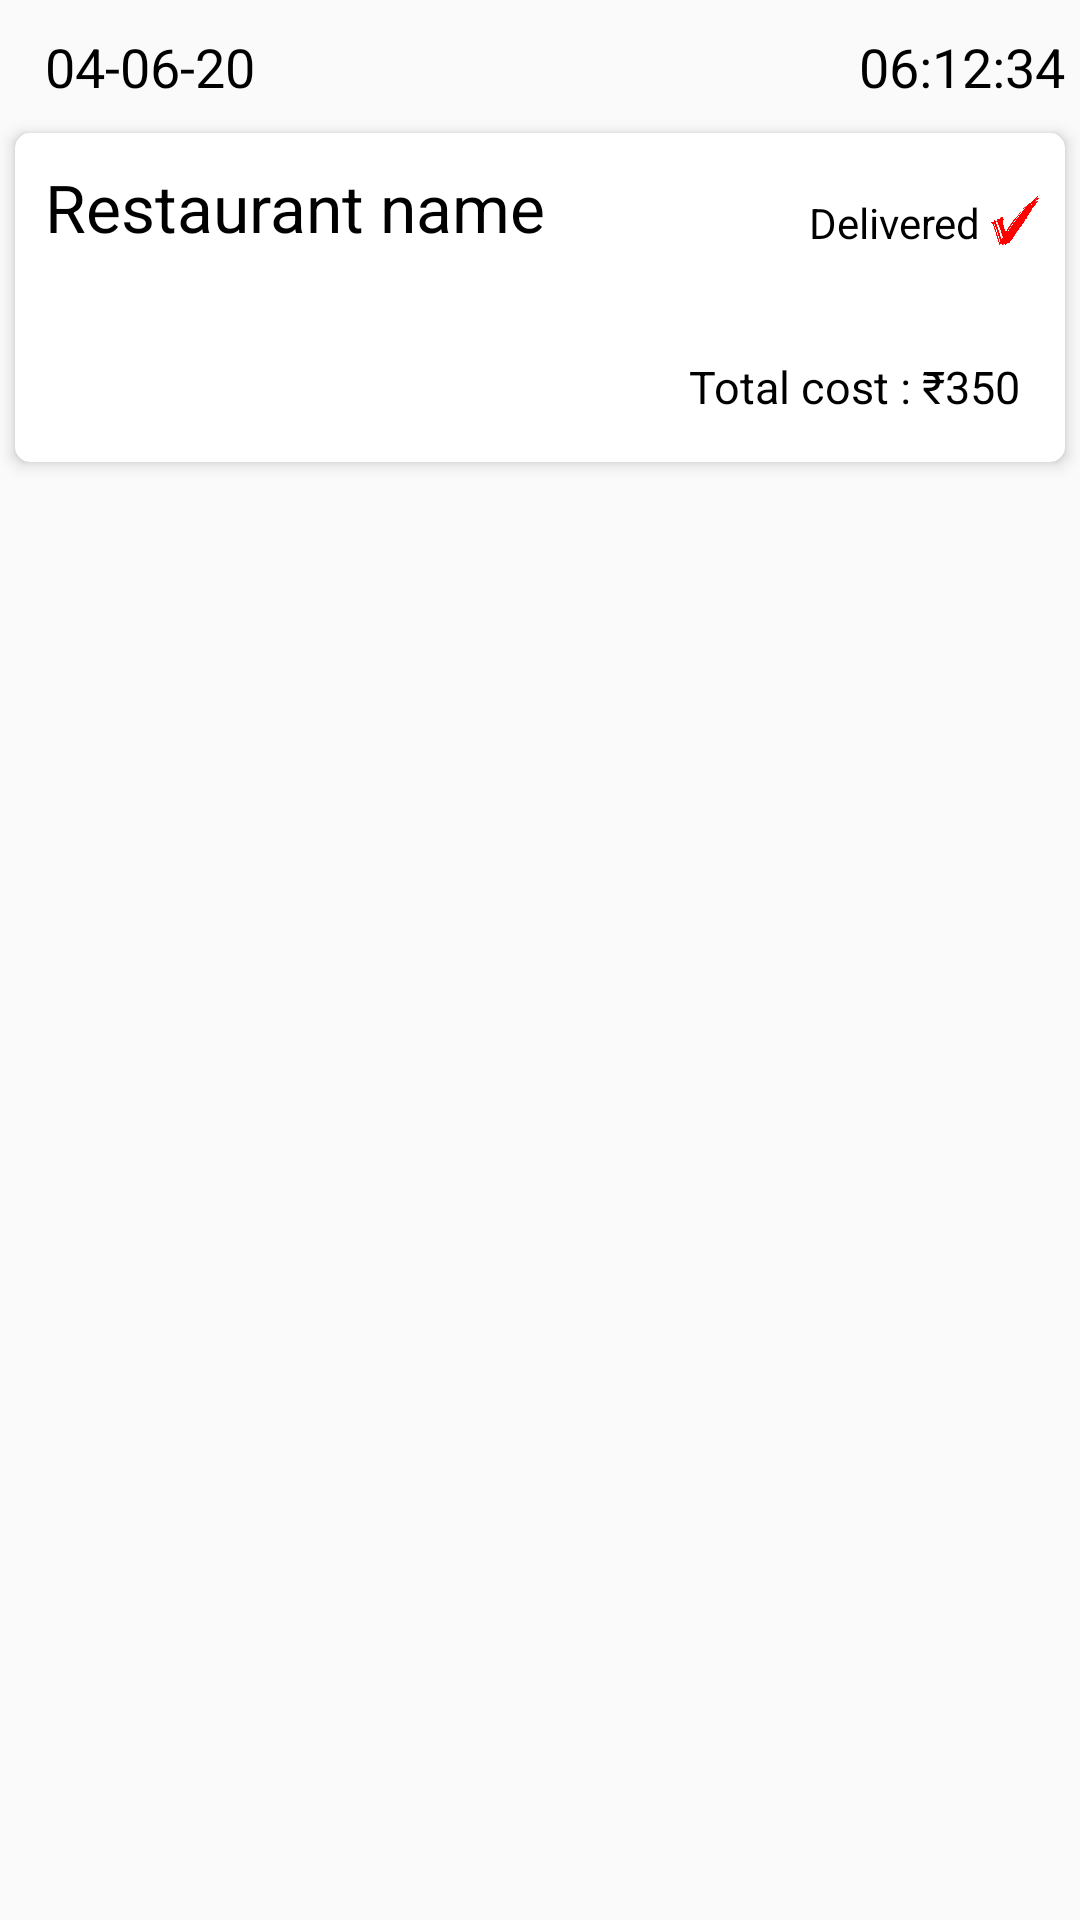

Named icons in this screenshot (1080px×1920px) and their bounding boxes, (x1=x1, y1=y1, x2=x2, y2=y2):
tick: (x1=991, y1=195, x2=1040, y2=245)
